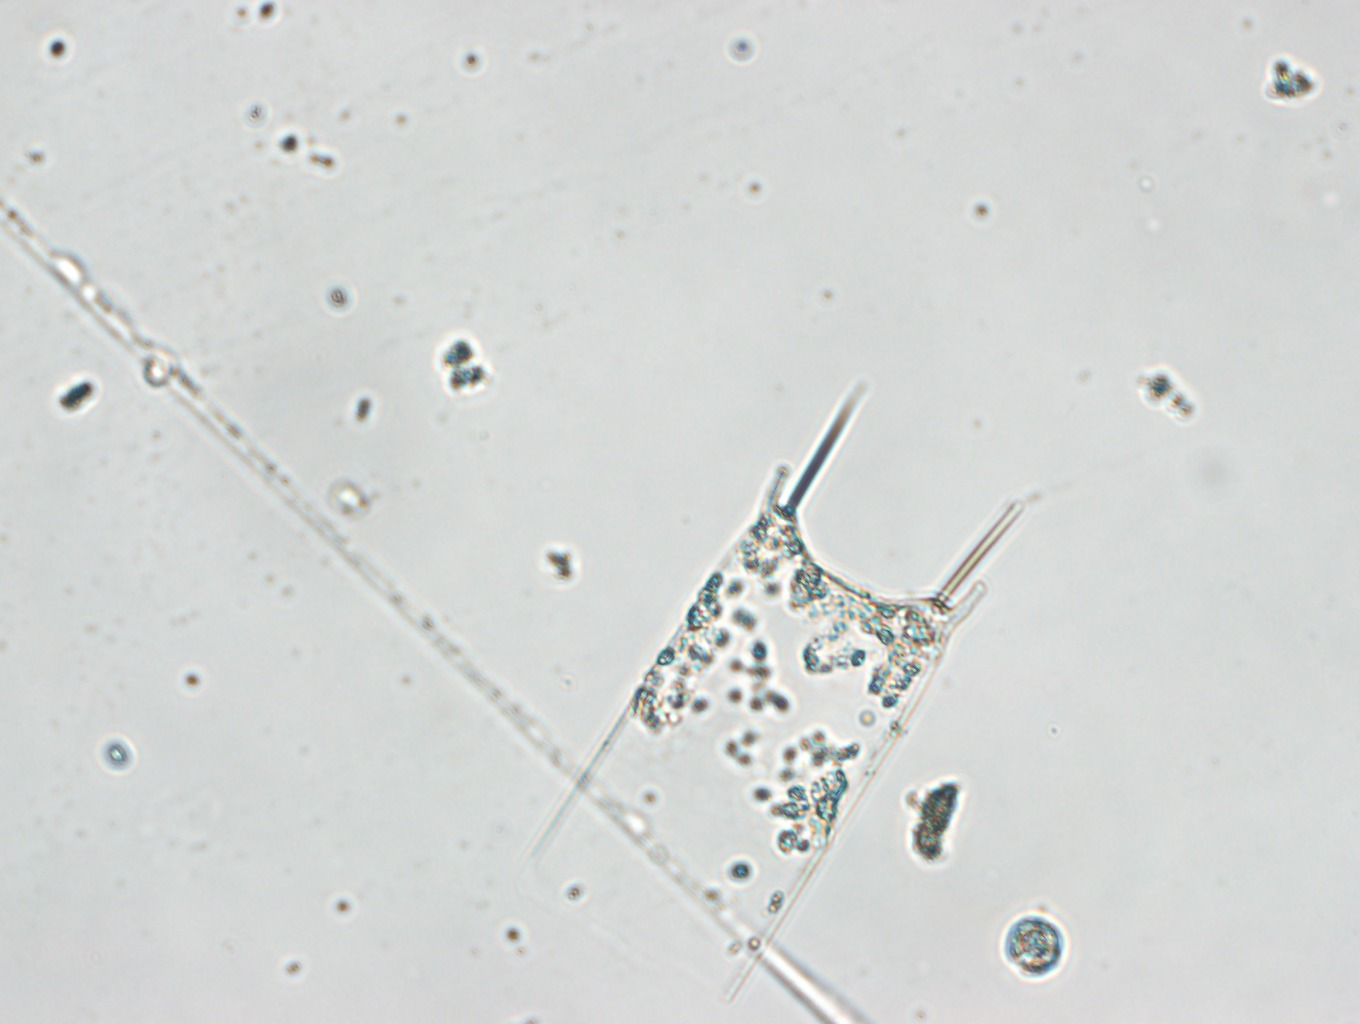biddulphia: (566, 379, 1014, 958)
